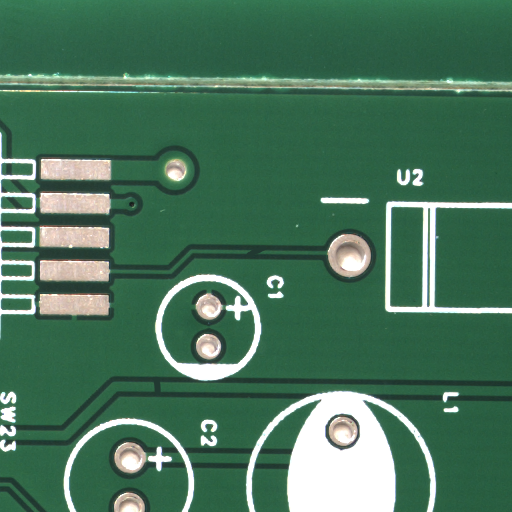Open_circuit: (256, 249, 274, 258), (157, 387, 164, 397)
